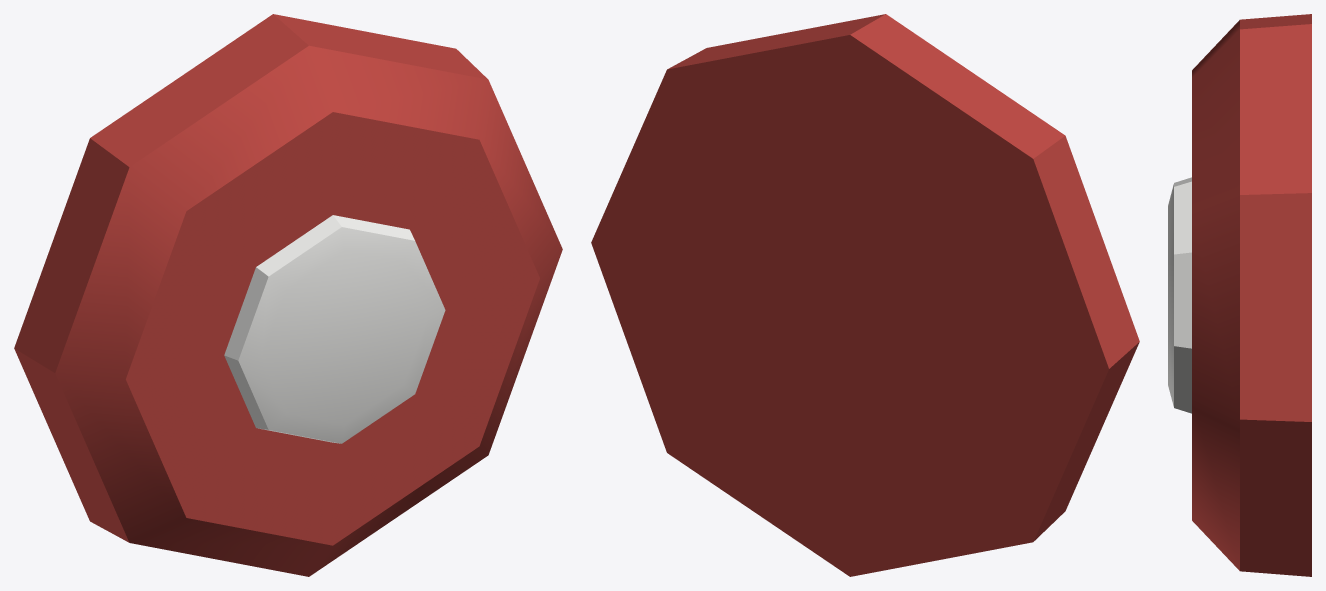
File: clutch_lod2.glb
3 renders of one model, left to right at view 1: azimuth 30°, elevation 25°; view 2: azimuth 150°, elevation 25°; view 3: azimuth 270°, elevation 25°, orthographic.
Visible parts, largest first — view 1: clutch_lod2; view 2: clutch_lod2; view 3: clutch_lod2.
Boxes of the visible parts, left/top/right/bottom form: clutch_lod2: left=14, top=14, right=562, bottom=576; clutch_lod2: left=591, top=14, right=1139, bottom=576; clutch_lod2: left=1168, top=14, right=1311, bottom=576.
Bounding box in the file's own units: 0.2 × 0.2 × 0.048.
